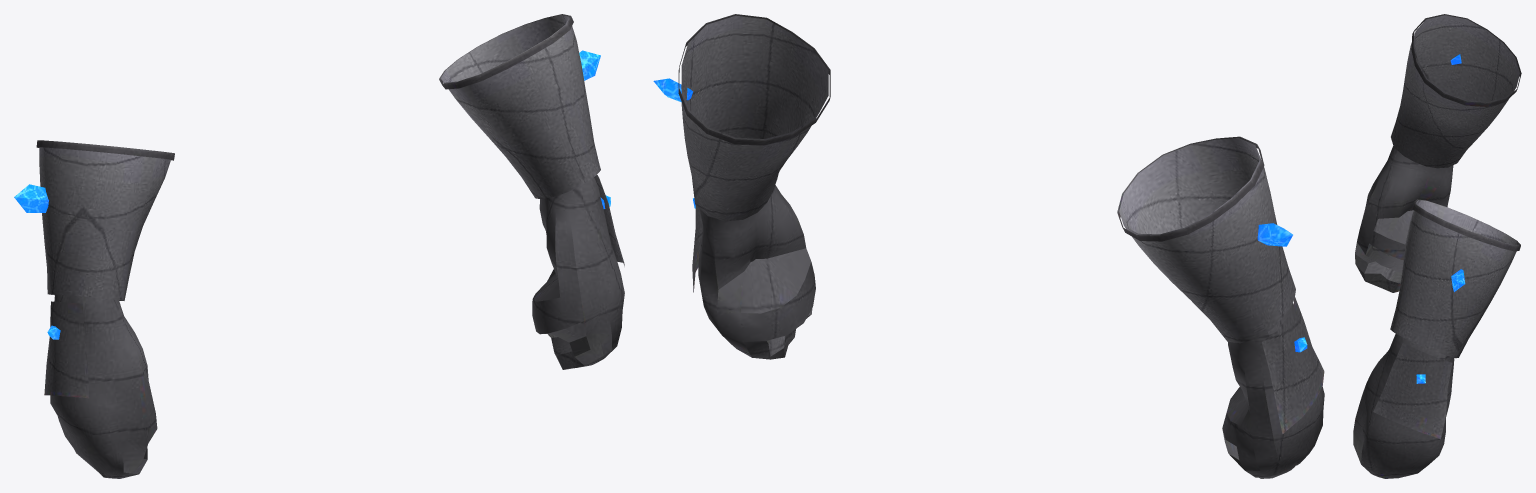
The model's file is Luvas_de_Energia_nivel75.glb.
The picture shows the model from 3 angles, left to right: view 1: azimuth 30°, elevation 25°; view 2: azimuth 150°, elevation 25°; view 3: azimuth 270°, elevation 25°; orthographic projection. The views are drawn at different scales.
Parts seen in each view (by area): view 1: luvas_de_energia_nivel75; view 2: luvas_de_energia_nivel75; view 3: luvas_de_energia_nivel75.
Boxes of the visible parts, x1,y1,x2,y2 form: luvas_de_energia_nivel75: [14, 14, 624, 478]; luvas_de_energia_nivel75: [653, 14, 1324, 478]; luvas_de_energia_nivel75: [1353, 14, 1521, 478].
Size of the model in its own units: 0.7037 by 0.3723 by 0.2088.
1 material, 1 textured.
